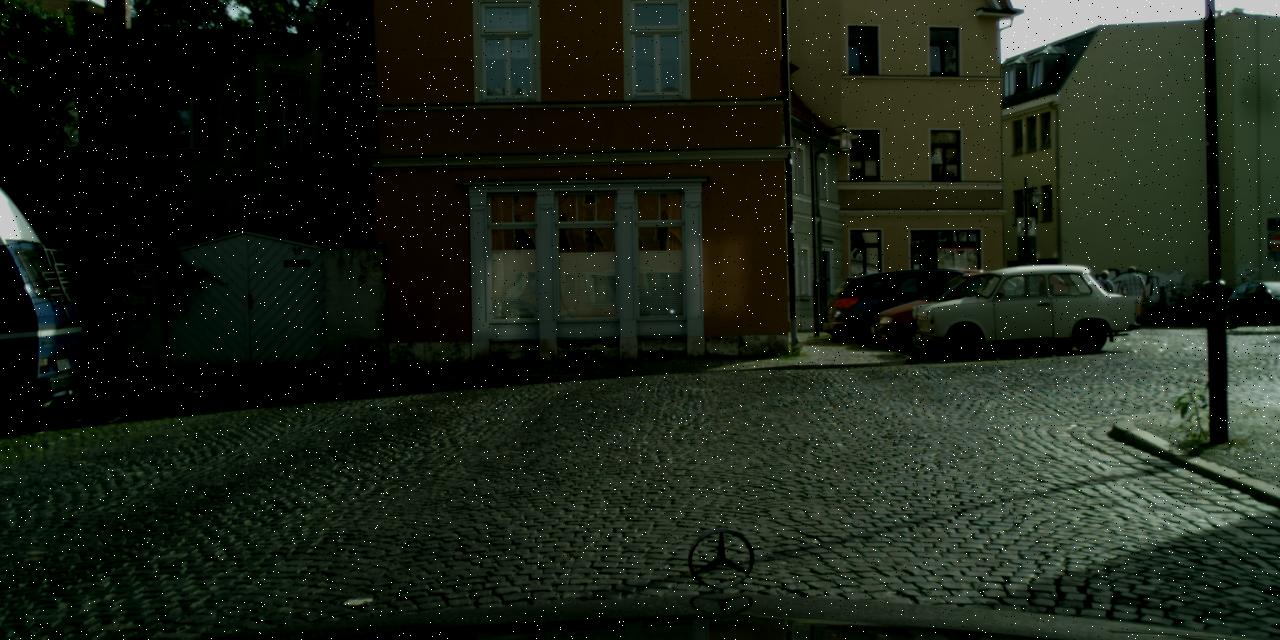ped: (1118, 265, 1144, 327), (1093, 270, 1116, 326)
